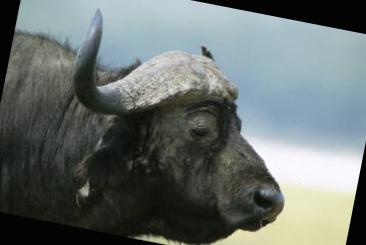Buffalo: (1, 12, 333, 245)
